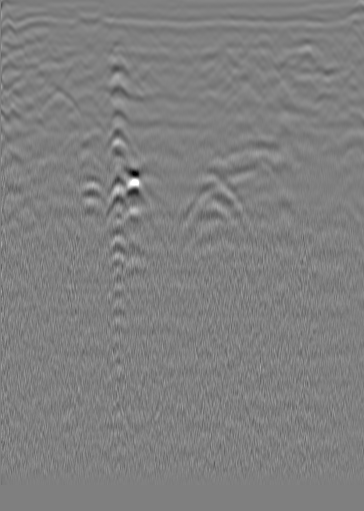가스: (104, 178, 137, 220)
상수: (311, 34, 331, 54)
오수: (45, 31, 65, 51)
우수: (189, 49, 209, 69)
